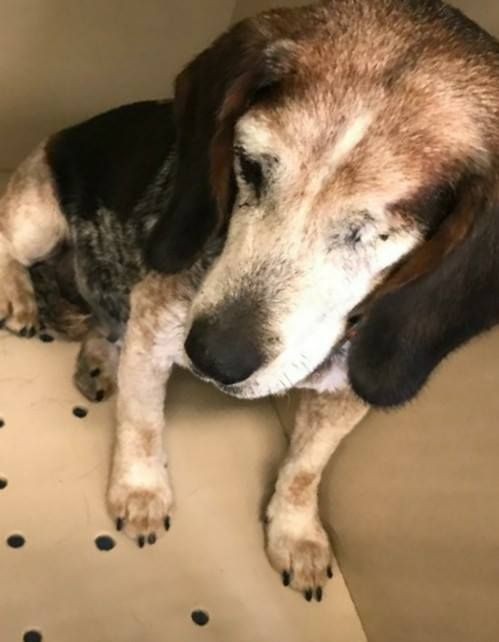dog: (4, 1, 499, 600)
